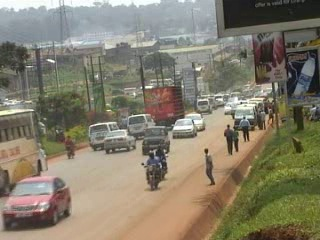Car: (3, 173, 73, 231), (139, 121, 173, 157), (102, 127, 137, 155), (172, 114, 197, 141), (181, 110, 207, 130), (223, 99, 233, 116)
Motorcycle: (137, 149, 166, 190), (150, 143, 171, 177), (60, 134, 78, 160)
